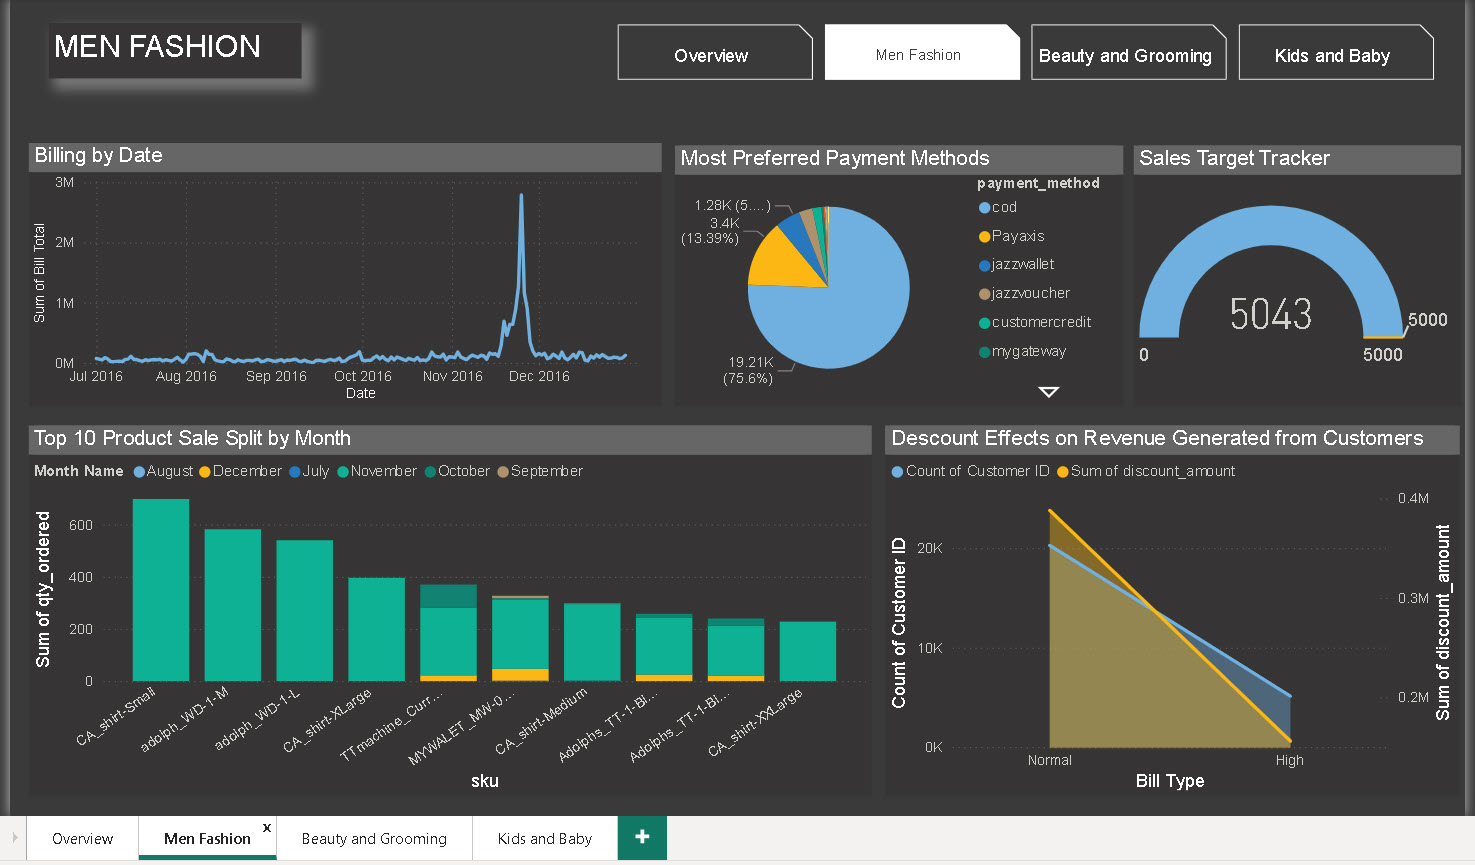

The page's visual inventory and layout, read from the dashboard file:
{"tool":"powerbi","page":{"name":"Men Fashion","canvas":[1280,720],"ordinal":1},"visuals":[{"type":"pageNavigator","box":[534.5,22.9,720.2,49.5],"z":0},{"type":"textbox","box":[33.7,22.1,222.1,48.8],"z":1000},{"type":"pieChart","title":"Most Preferred Payment Methods","fields":{"Category":["Pakistan Largest Ecommerce Dataset.payment_method"],"Y":["CountNonNull(Pakistan Largest Ecommerce Dataset.payment_method)"]},"box":[584.5,129.8,394,229.8],"z":3000},{"type":"columnChart","title":"Top 10  Product Sale Split by Month","fields":{"Category":["Pakistan Largest Ecommerce Dataset.sku"],"Y":["Sum(Pakistan Largest Ecommerce Dataset.qty_ordered)"],"Series":["Calender.Month Name"]},"box":[16.7,376.2,741.7,326.2],"z":4000},{"type":"lineChart","title":"Billing by Date","fields":{"Category":["Calender.Date"],"Y":["Sum(Pakistan Largest Ecommerce Dataset.Bill Total)"]},"box":[16.7,127.4,557.1,232.1],"z":5000},{"type":"gauge","title":" Sales Target Tracker","fields":{"Y":["Pakistan Largest Ecommerce Dataset.Proucts Sold"],"TargetValue":["Pakistan Largest Ecommerce Dataset.Target Sale"],"MaxValue":["Pakistan Largest Ecommerce Dataset.Target Sale"]},"box":[988.1,129.8,288.1,229.8],"z":6000},{"type":"areaChart","title":"Descount Effects on Revenue Generated from Customers","fields":{"Category":["Pakistan Largest Ecommerce Dataset.Bill Type"],"Y":["CountNonNull(Pakistan Largest Ecommerce Dataset.Customer ID)"],"Y2":["Sum(Pakistan Largest Ecommerce Dataset.discount_amount)"]},"box":[770.2,376.2,506,326.2],"z":7000}]}

Visuals, with their boxes on the page's 1280x720 design canvas (x1, y1, x2, y2). These are canvas units, not pixel positions in the 1475x865 screenshot, which may show the page scaled, cropped or inside an application window:
pageNavigator: rect(534, 23, 1255, 72)
textbox: rect(34, 22, 256, 71)
"Most Preferred Payment Methods" pieChart: rect(584, 130, 978, 360)
"Top 10  Product Sale Split by Month" columnChart: rect(17, 376, 758, 702)
"Billing by Date" lineChart: rect(17, 127, 574, 360)
" Sales Target Tracker" gauge: rect(988, 130, 1276, 360)
"Descount Effects on Revenue Generated from Customers" areaChart: rect(770, 376, 1276, 702)
